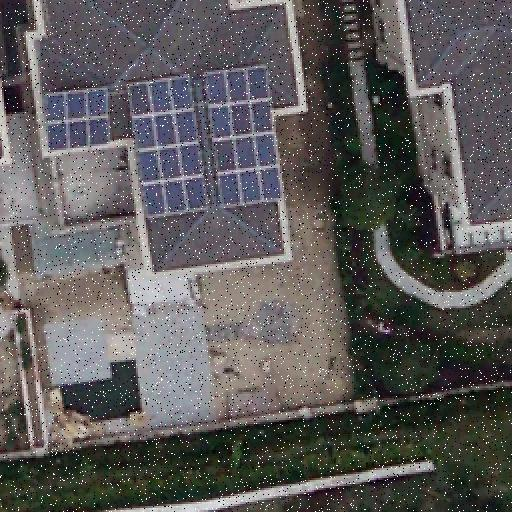solar-panel: (124, 74, 208, 224), (206, 56, 284, 216), (38, 84, 110, 156)
